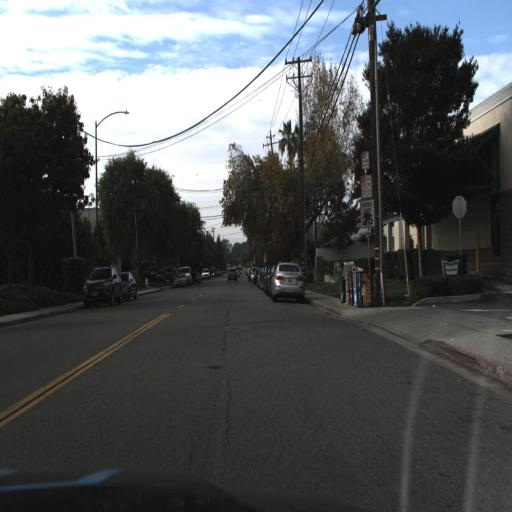car: (83, 262, 122, 307), (269, 263, 306, 299), (111, 270, 133, 309), (161, 267, 181, 289)
